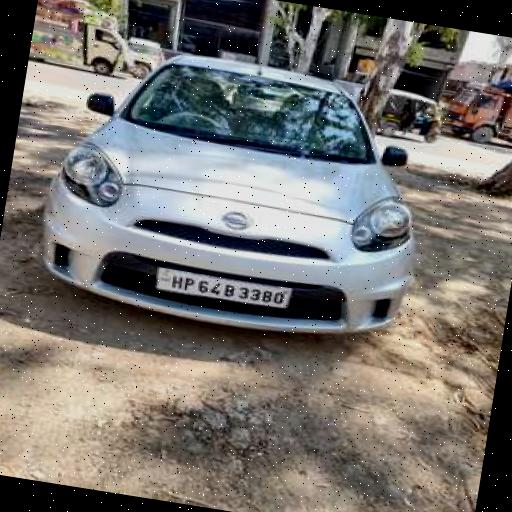license_plate`: (152, 262, 290, 308)
